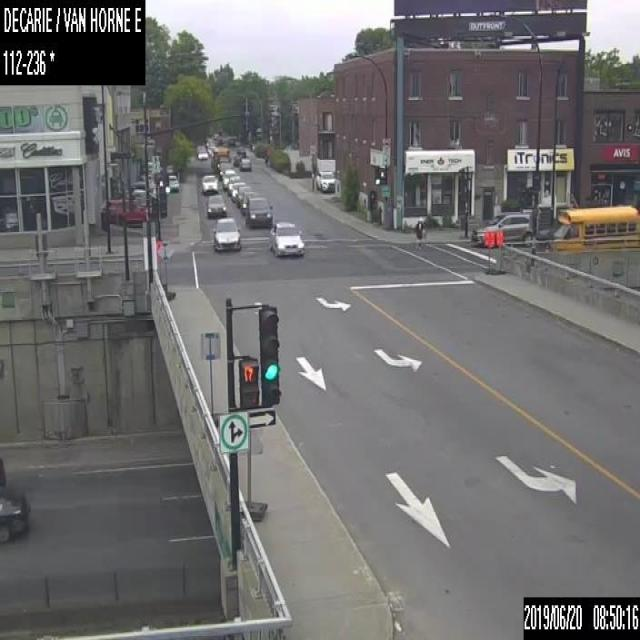bus: (533, 204, 639, 255), (212, 147, 230, 174)
construction: (241, 426, 266, 522), (199, 330, 224, 424), (157, 236, 176, 299), (494, 229, 505, 273), (484, 229, 494, 273)
pedestrian: (413, 218, 424, 250)
vehicle: (470, 209, 533, 244), (0, 485, 28, 544), (101, 199, 146, 227), (269, 220, 305, 254), (212, 216, 240, 250), (245, 196, 272, 226), (129, 188, 157, 206), (205, 194, 226, 216), (315, 170, 334, 191), (240, 190, 256, 213), (200, 174, 218, 194), (235, 185, 251, 207), (230, 181, 246, 201), (221, 169, 236, 189), (219, 160, 232, 180), (226, 174, 238, 194), (167, 174, 179, 191), (196, 146, 208, 160), (239, 156, 250, 168), (236, 146, 245, 158), (232, 154, 240, 166)
